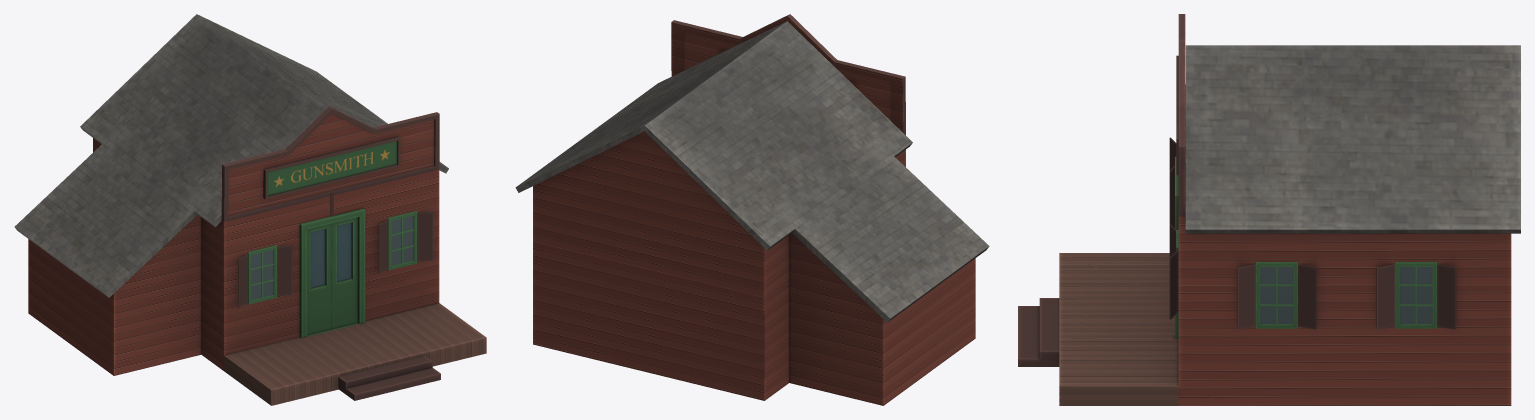
File: Gunsmith.fbx
3 renders of one model, left to right at view 1: azimuth 30°, elevation 25°; view 2: azimuth 150°, elevation 25°; view 3: azimuth 270°, elevation 25°, orthographic. The views are drawn at different scales.
Visible parts, largest first — view 1: Building_15; view 2: Building_15; view 3: Building_15.
Boxes of the visible parts, <box> form: Building_15: <box>14,14,486,405</box>; Building_15: <box>515,14,989,405</box>; Building_15: <box>1018,14,1520,405</box>.
Bounding box in the file's own units: 266 × 185 × 281.
